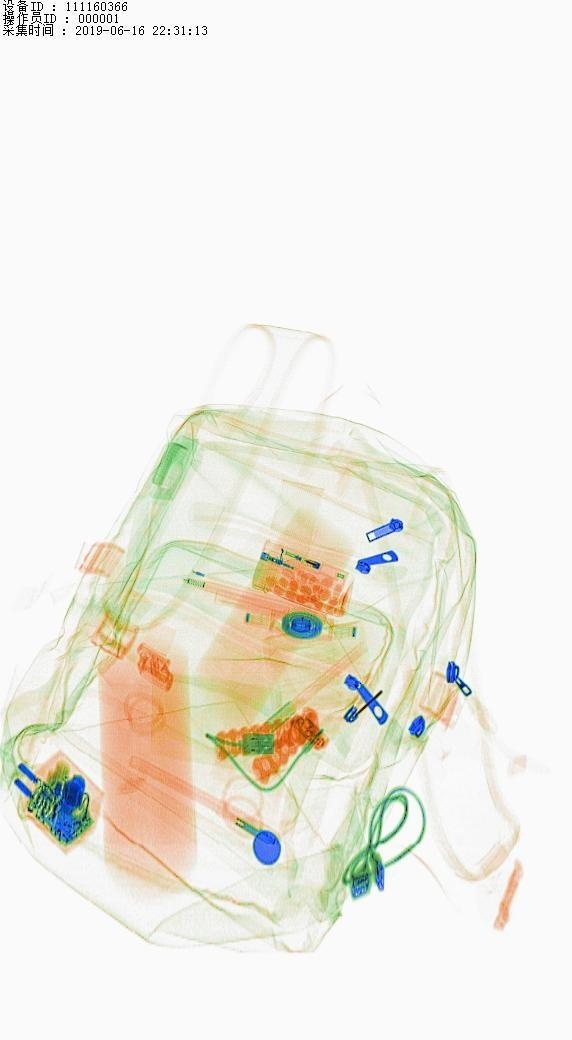NonmetallicFire: (228, 523, 401, 619)
